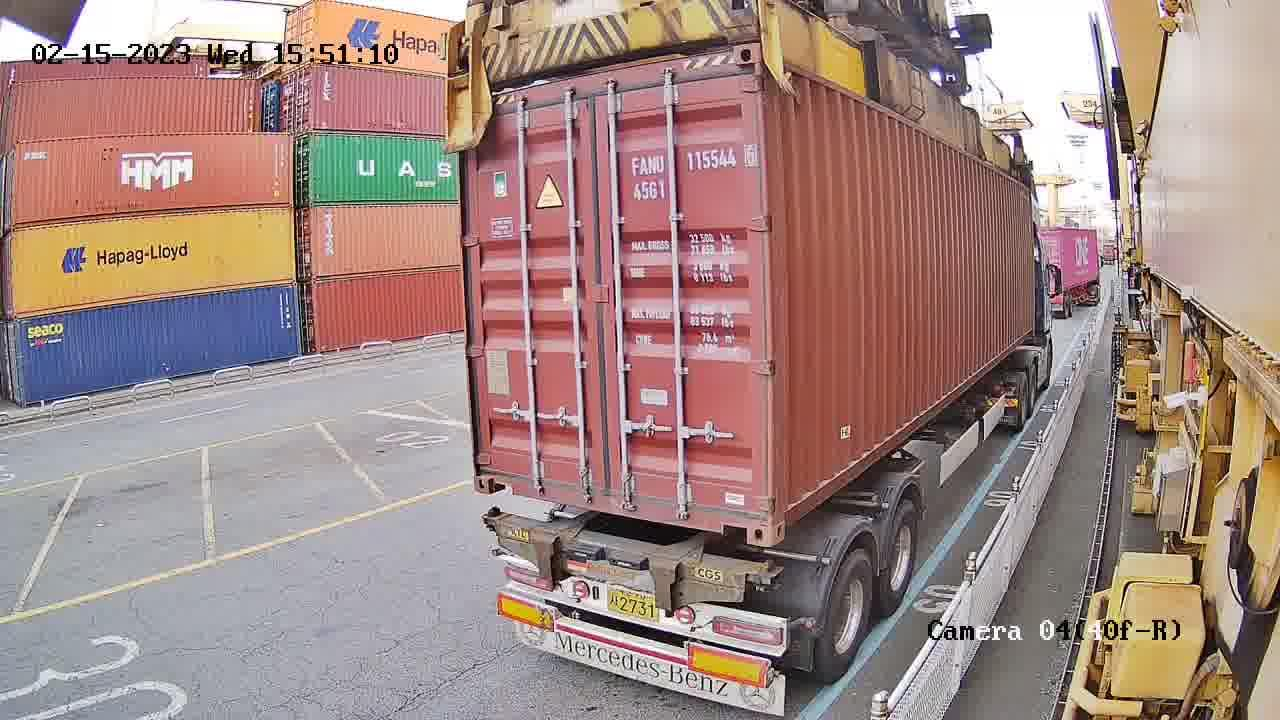Chassis: (490, 516, 770, 609)
Cone: (749, 558, 779, 593), (481, 505, 501, 536)
Hole_L: (771, 452, 823, 548), (473, 440, 519, 494)
Hole_R: (715, 477, 772, 547)
Tire: (818, 553, 876, 682), (879, 500, 919, 612)
